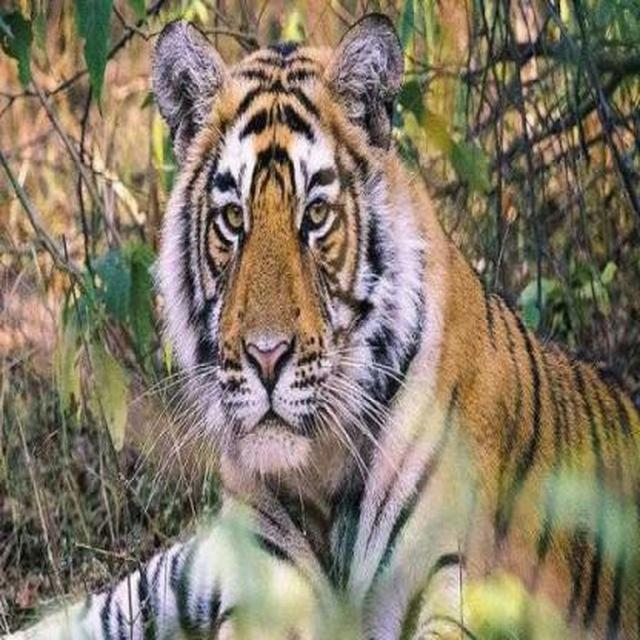tiger: (0, 10, 639, 639)
